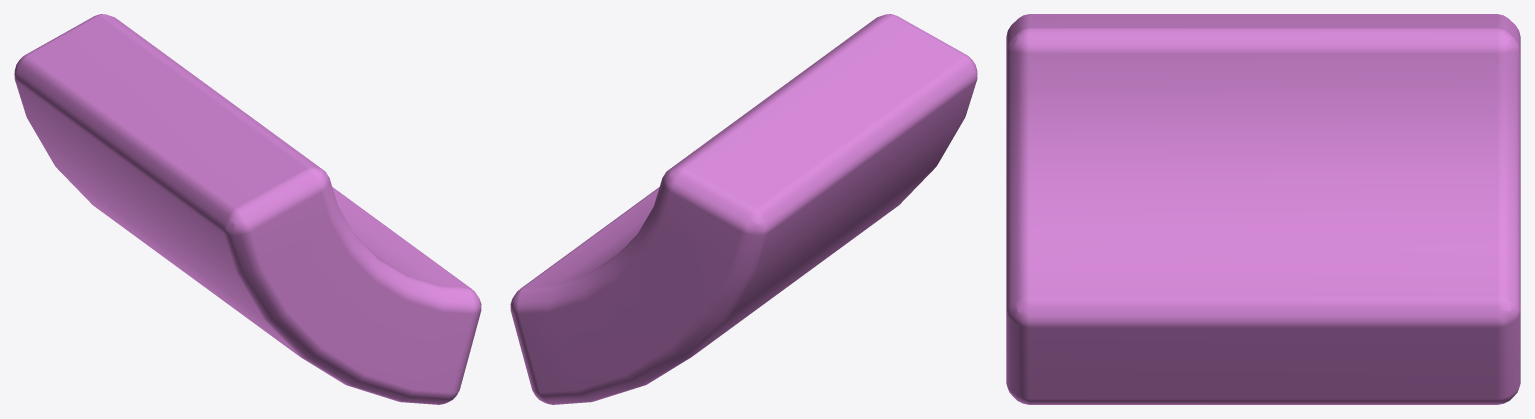
Rendered from pedeswayHalf.fbx.
The picture shows the model from 3 angles, left to right: view 1: azimuth 30°, elevation 25°; view 2: azimuth 150°, elevation 25°; view 3: azimuth 270°, elevation 25°; orthographic projection. The views are drawn at different scales.
Parts seen in each view (by area): view 1: Circle.009; view 2: Circle.009; view 3: Circle.009.
Boxes of the visible parts, x1,y1,x2,y2 form: Circle.009: [14, 14, 481, 404]; Circle.009: [510, 14, 977, 404]; Circle.009: [1006, 14, 1520, 404].
Size of the model in its own units: 1.56 by 1.56 by 2.4.
